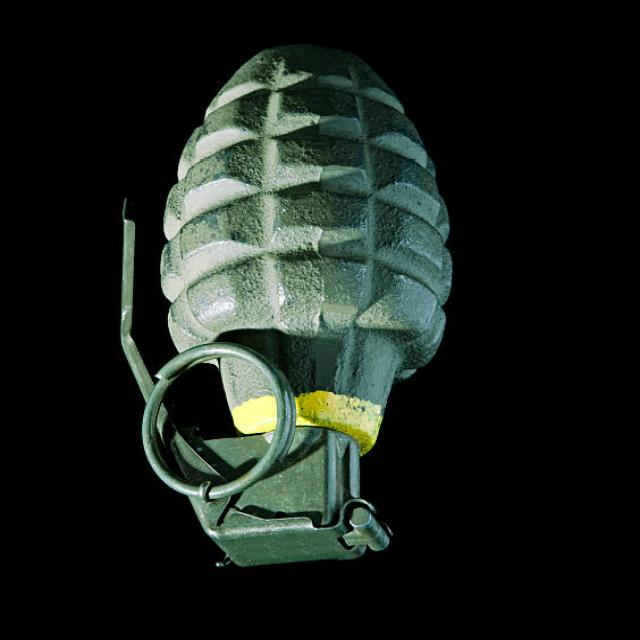grenade: (107, 36, 469, 579)
